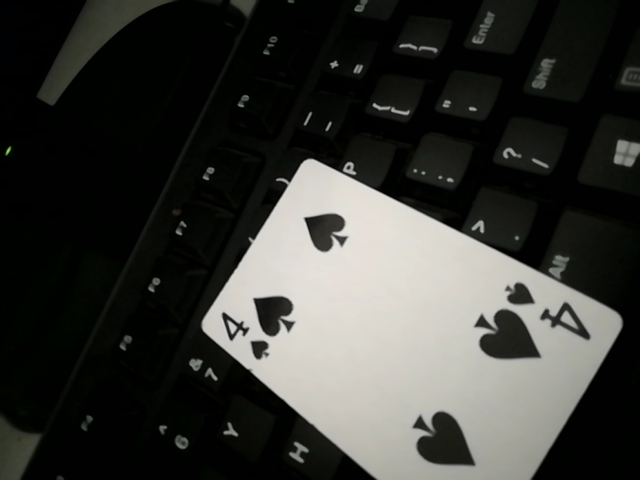ht 4: (190, 154, 623, 479)
